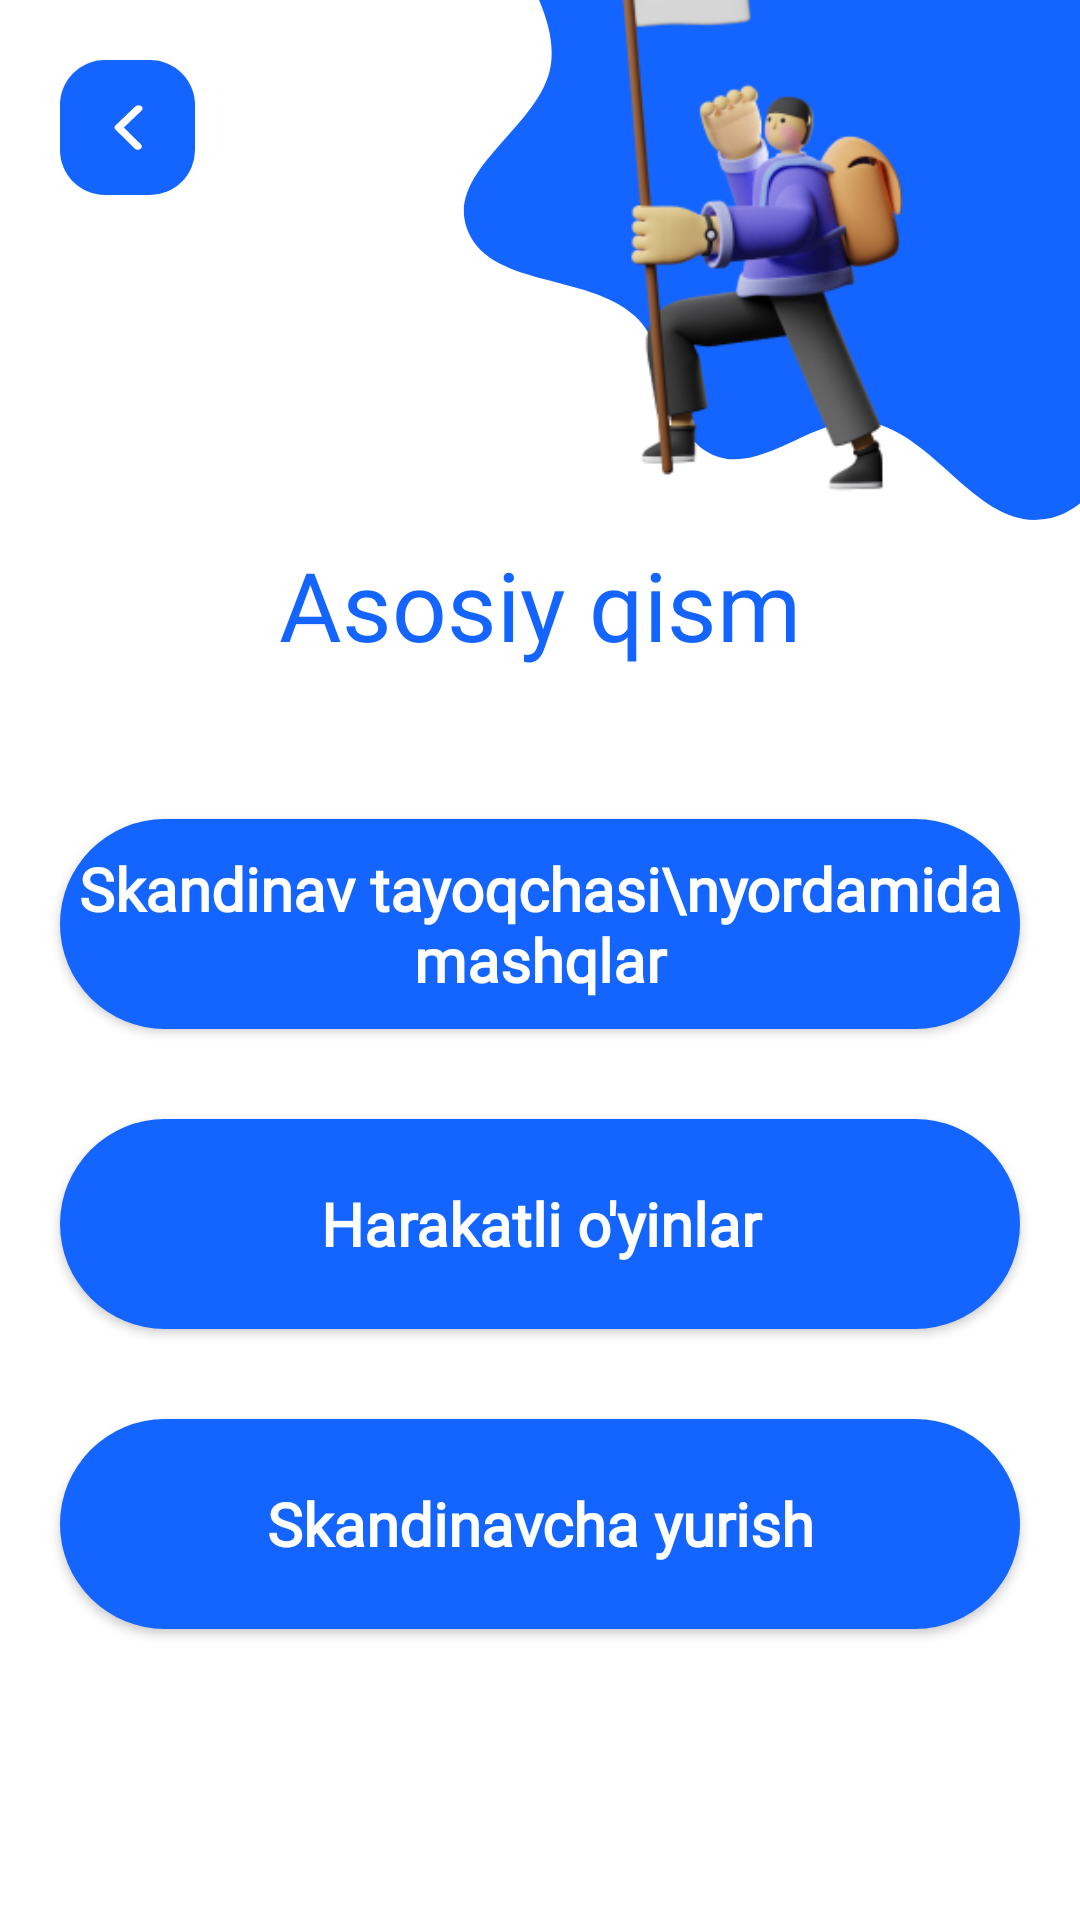

Screen size 1080*1920. Icon name, then its box in pixels as (x1, y1, x2, y2):
left arrow: (60, 60, 195, 195)
